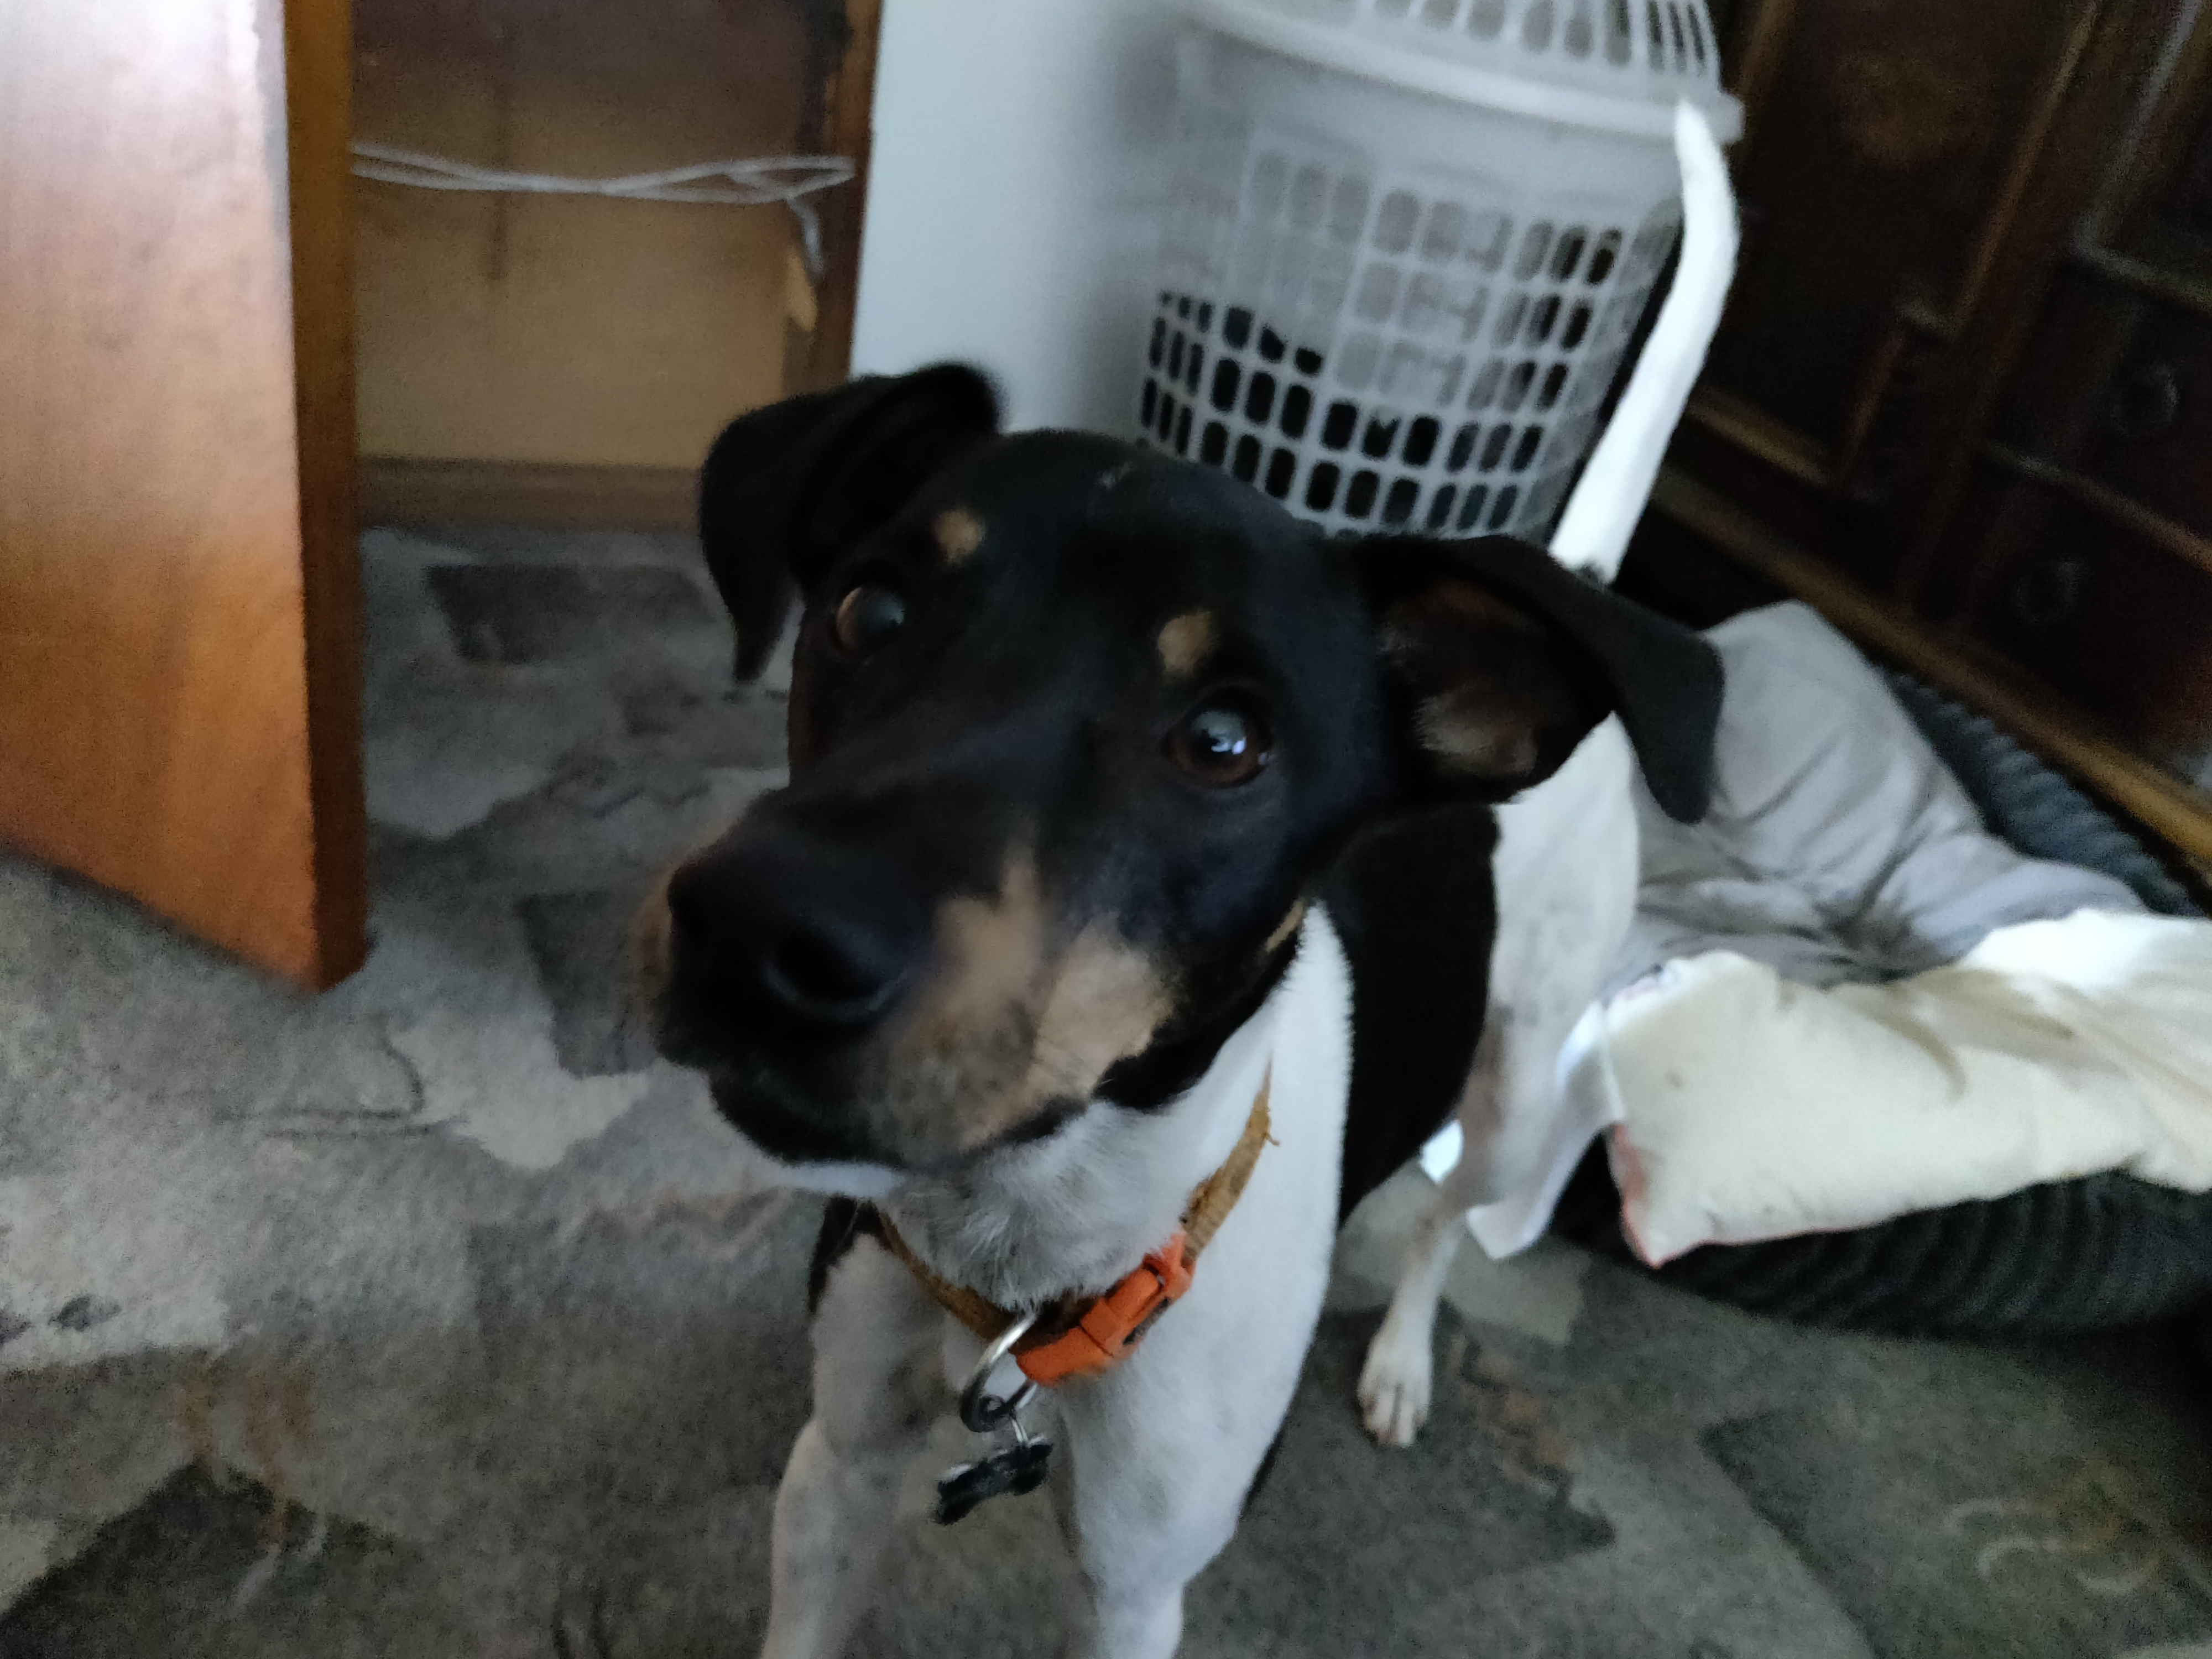Dog: (620, 354, 1752, 1659)
